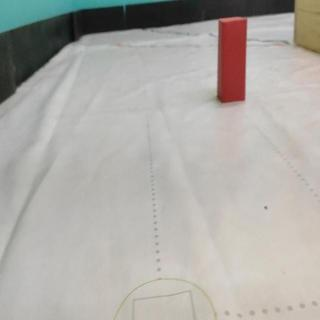redbox: (216, 15, 247, 104)
